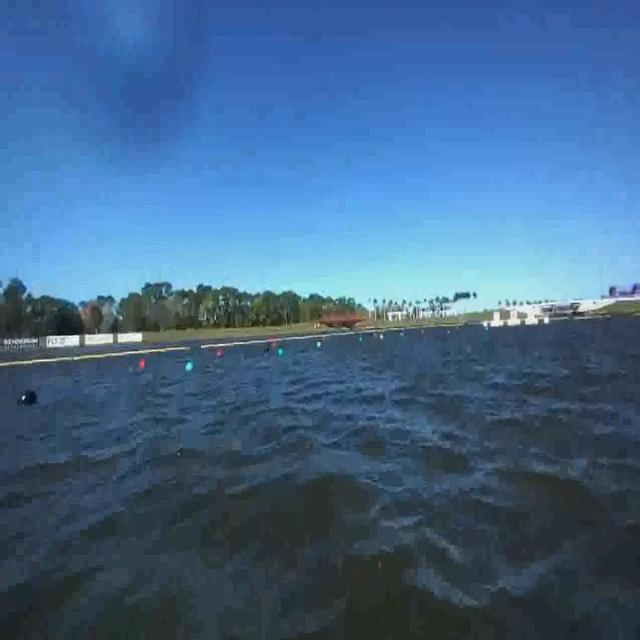black-buoy: (18, 389, 40, 405)
green-buoy: (185, 360, 194, 372)
red-buoy: (139, 358, 146, 368)
